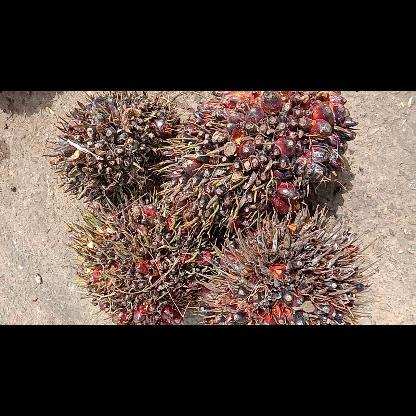TBS abnormal: (176, 91, 359, 213), (206, 216, 368, 324), (76, 200, 208, 324), (52, 90, 180, 200)
